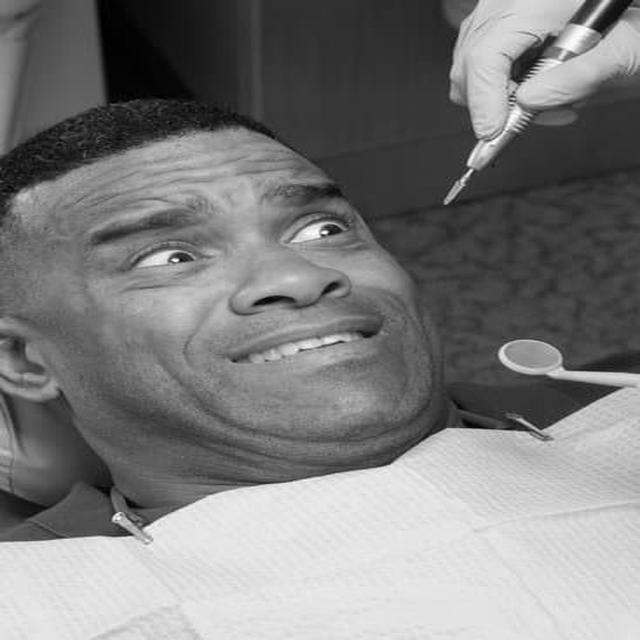Fear: (73, 128, 443, 450)
